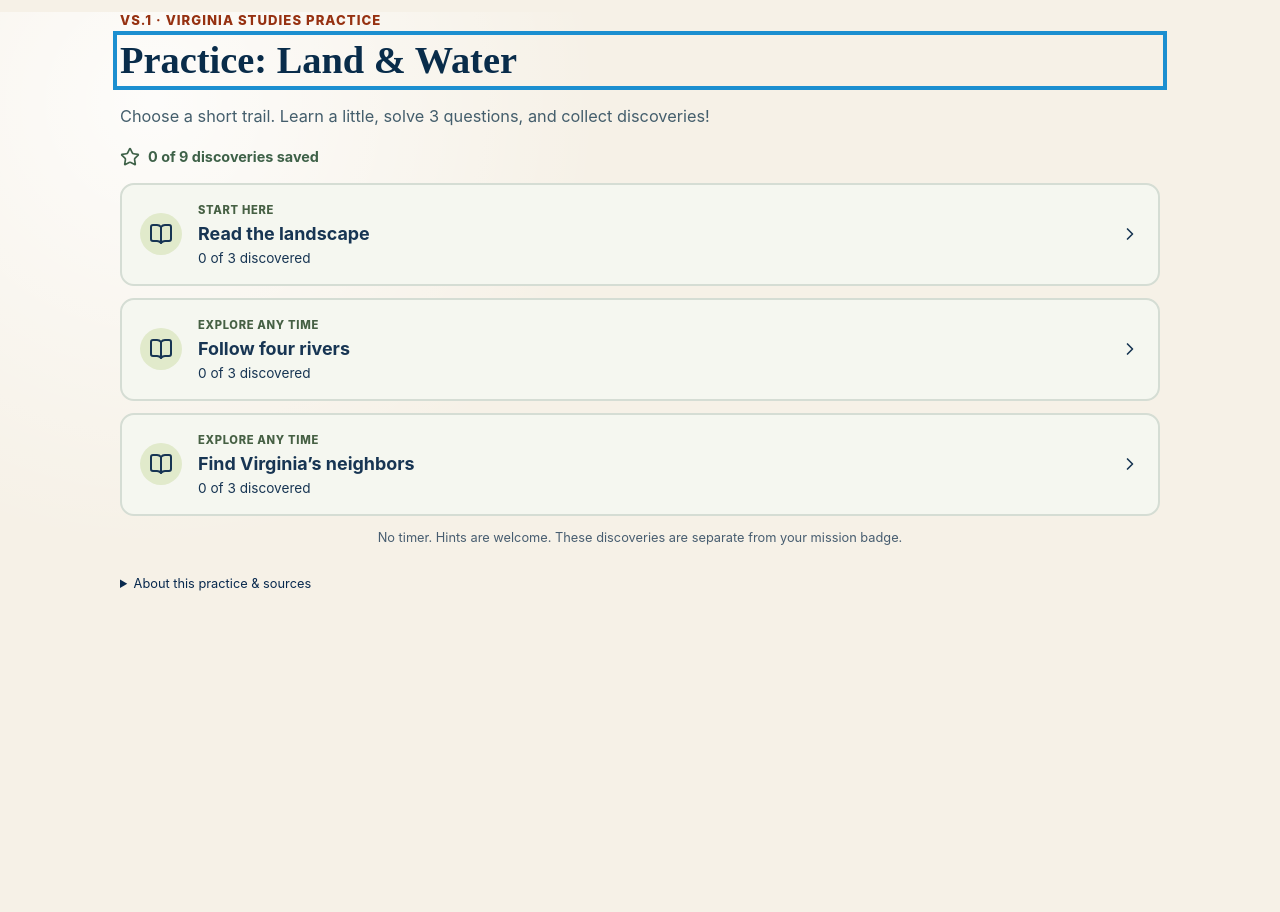
Test: practice flow › continues learning if browser storage cannot save
The width and height of the screenshot is (1280, 912).
Click the button "START HERE Read the landscape 0 of 3 discovered": (161, 234) [120,182,1160,286]
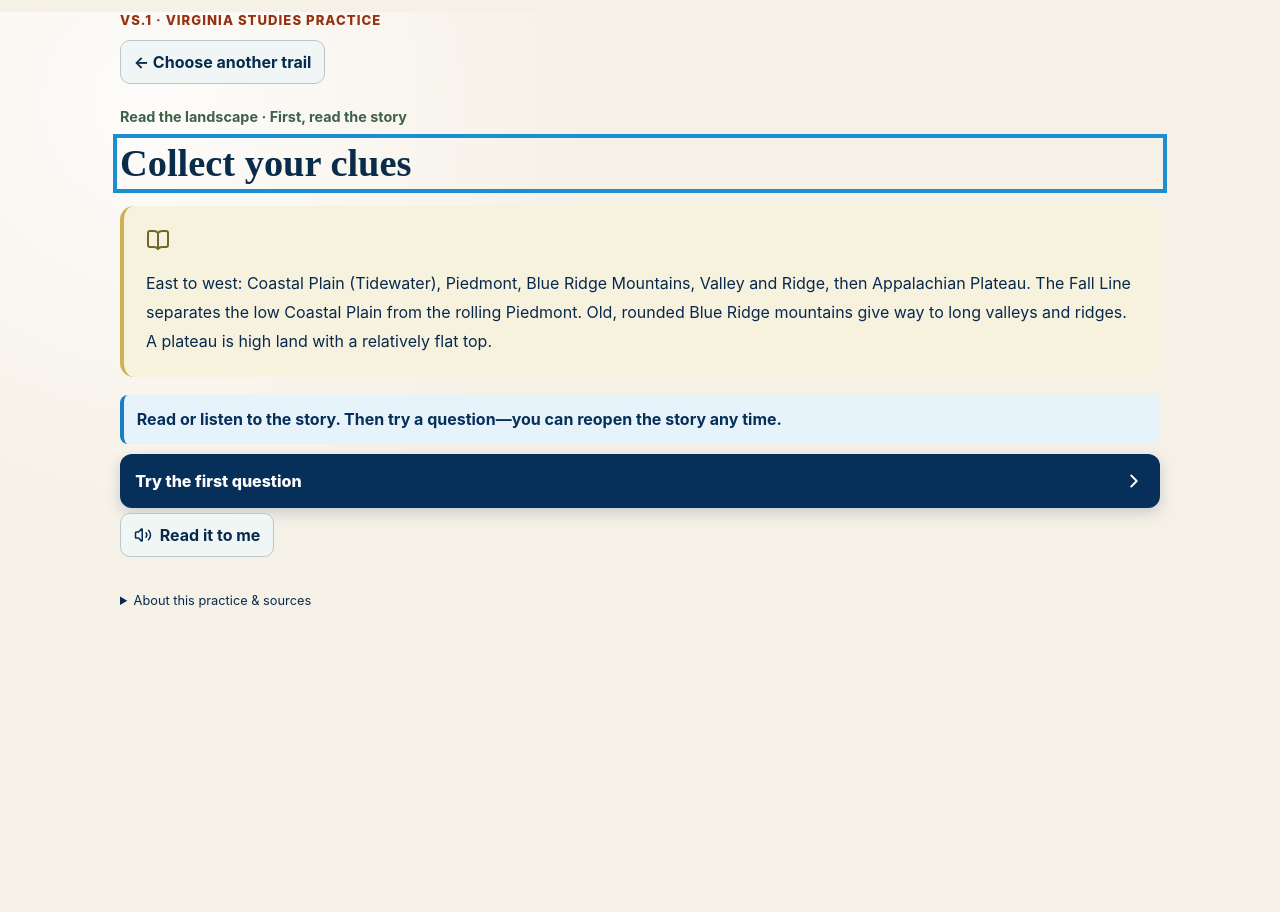
Click the button "Try the first question": (218, 481) [120,454,1160,508]
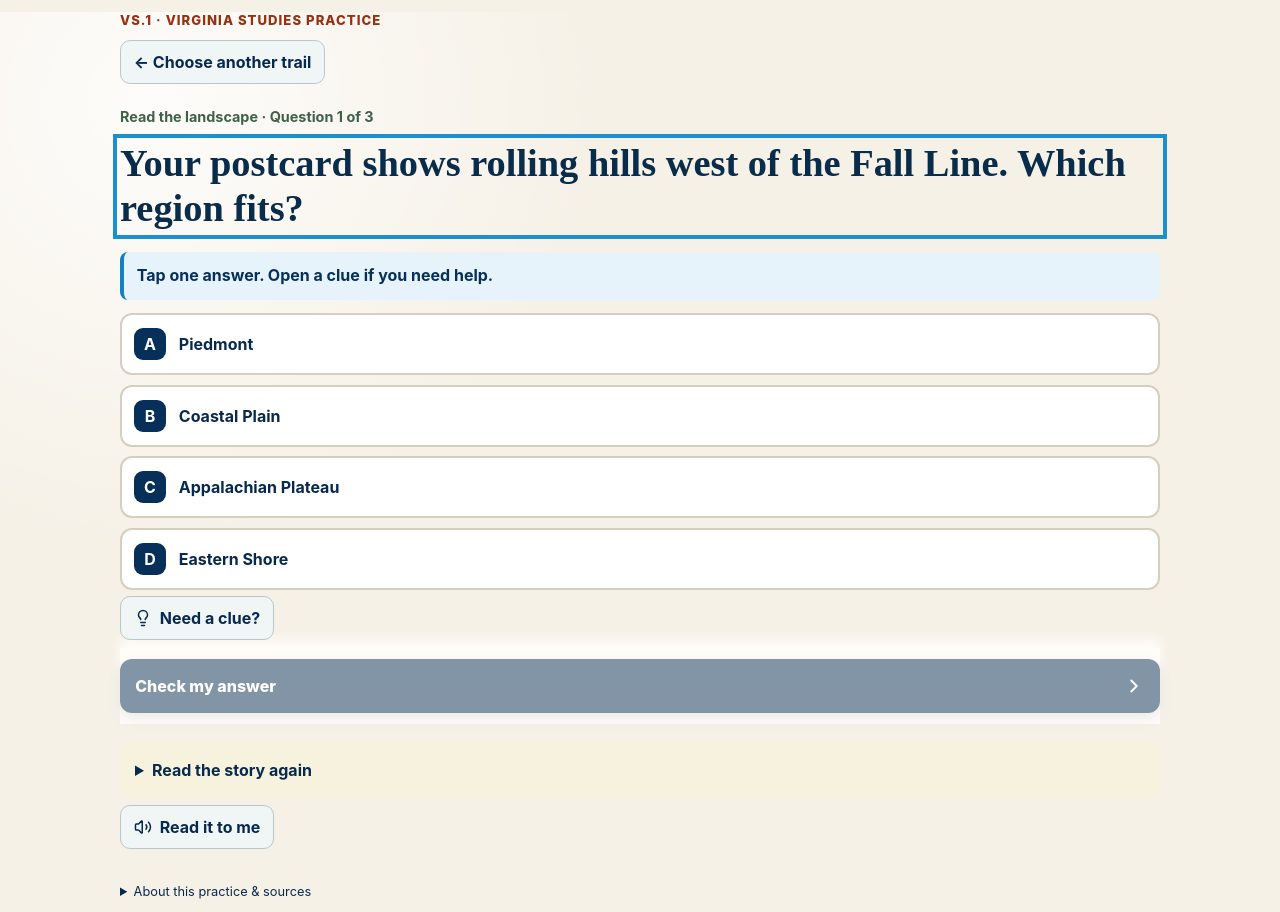
Click the button "A Piedmont": (150, 344) [120,313,1160,375]
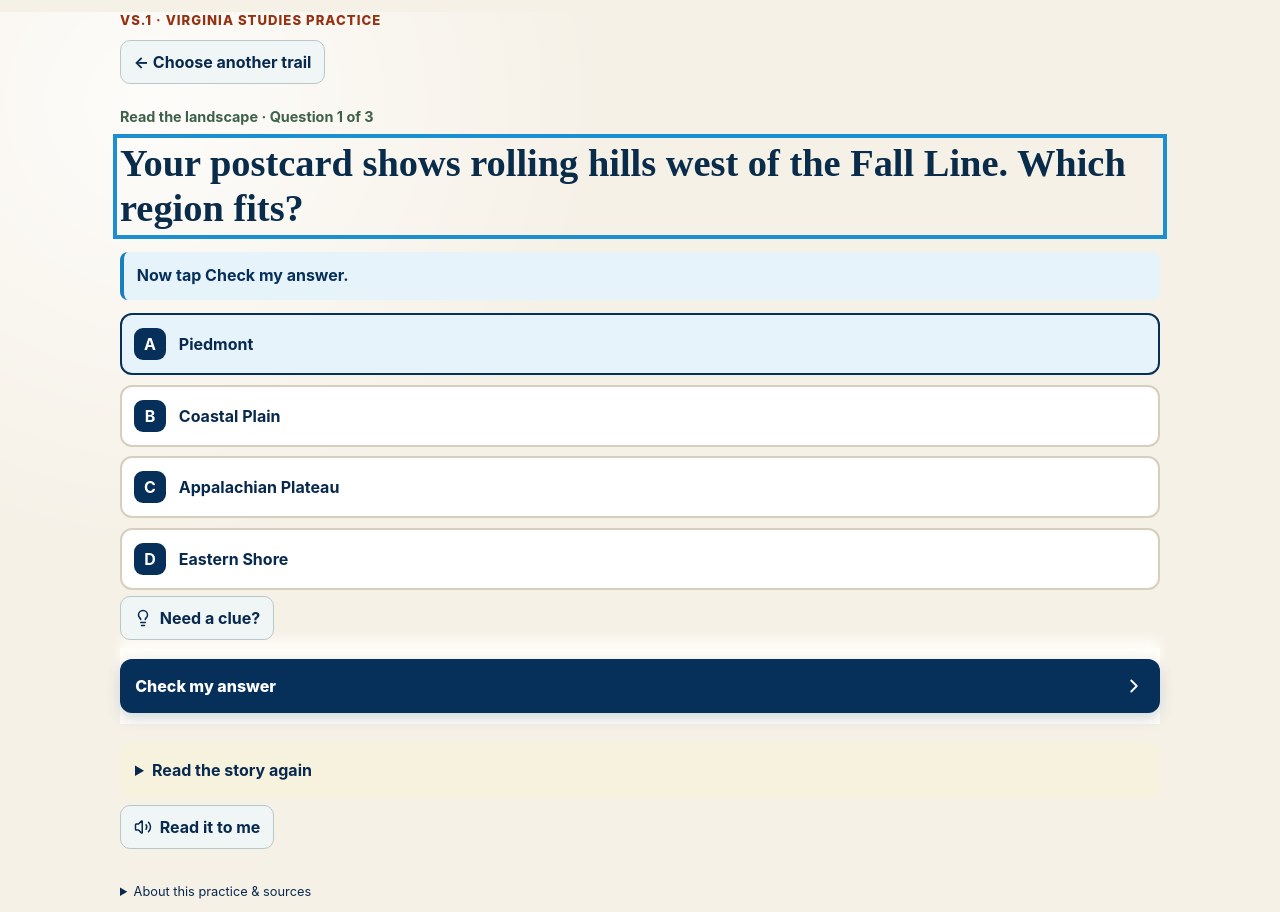
Click the button "Check my answer": (206, 686) [120,659,1160,713]
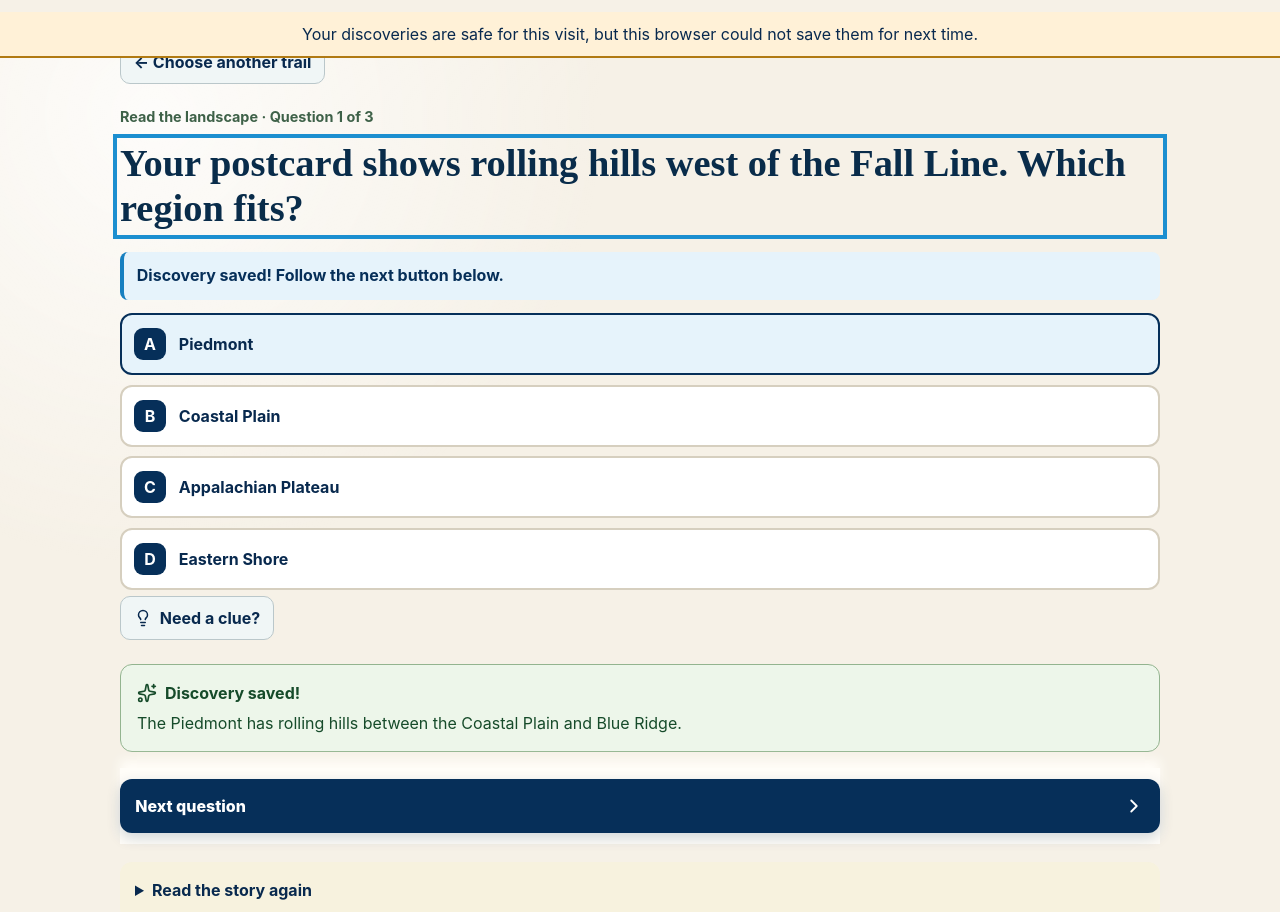
Expected: the button "Next question" is enabled, [120,779,1160,833]
Expected: the 1st message shows "could not save", [302,24,978,44]
